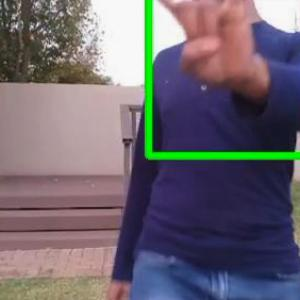takeoff-hand: (132, 0, 261, 93)
